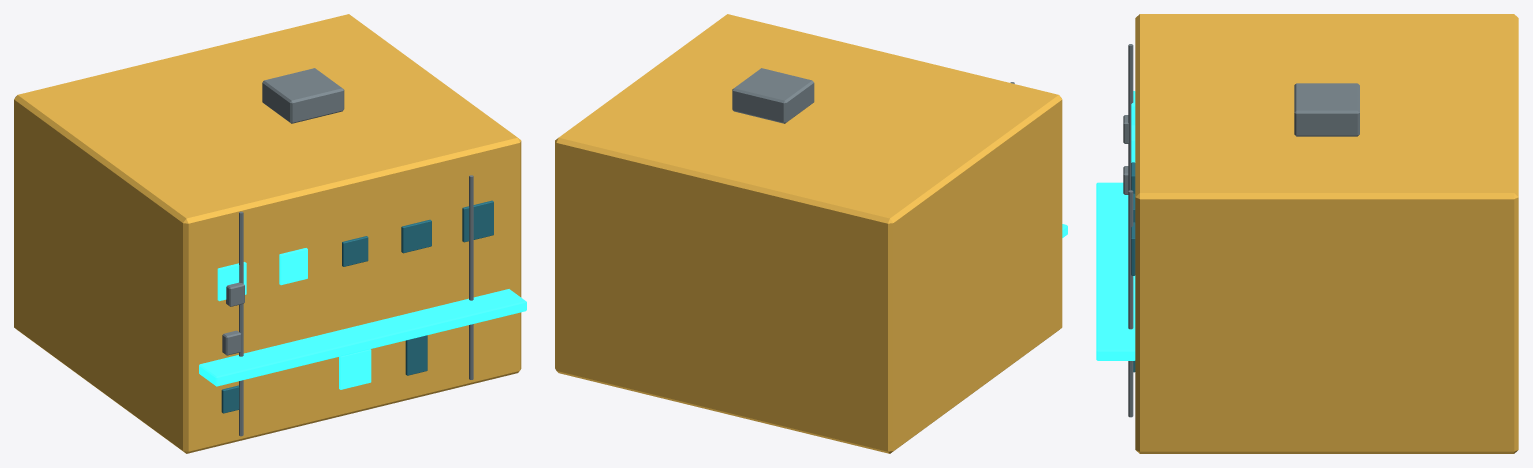
Rendered from building_005_seed100.glb.
3 renders of one model, left to right at view 1: azimuth 30°, elevation 25°; view 2: azimuth 150°, elevation 25°; view 3: azimuth 270°, elevation 25°, orthographic. The views are drawn at different scales.
Parts seen in each view (by area): view 1: building_005_seed100; view 2: building_005_seed100; view 3: building_005_seed100.
Part boxes in pixels (x1,y1,x2,y2): building_005_seed100: (14, 14, 526, 453); building_005_seed100: (555, 14, 1067, 453); building_005_seed100: (1096, 14, 1518, 453).
Size of the model in its own units: 7.62 by 5.57 by 7.44.
